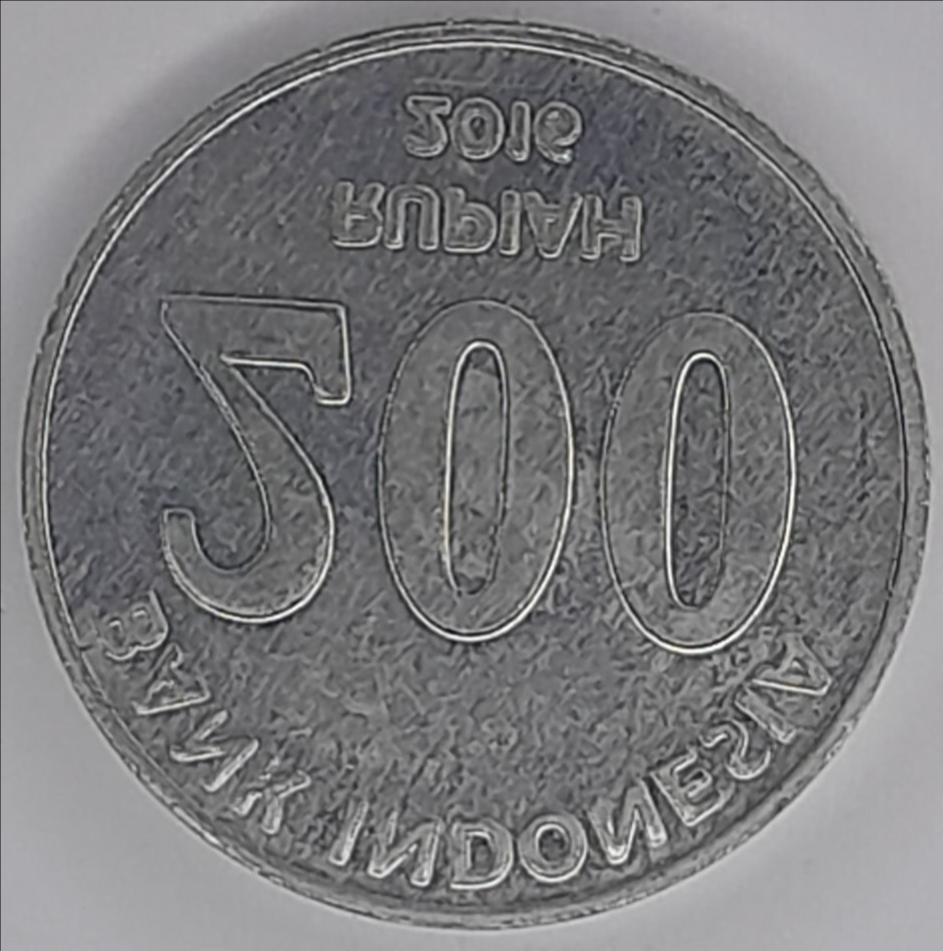coin_200_e2016: (0, 17, 943, 951)
